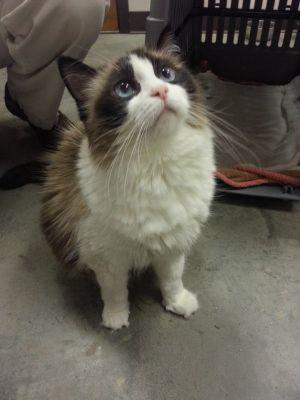ragdoll: (57, 18, 217, 171)
